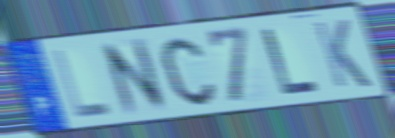7: (205, 25, 252, 107)
C: (159, 35, 218, 108)
K: (310, 17, 375, 91)
L: (50, 47, 115, 122), (258, 26, 323, 98)
N: (97, 35, 173, 120)
